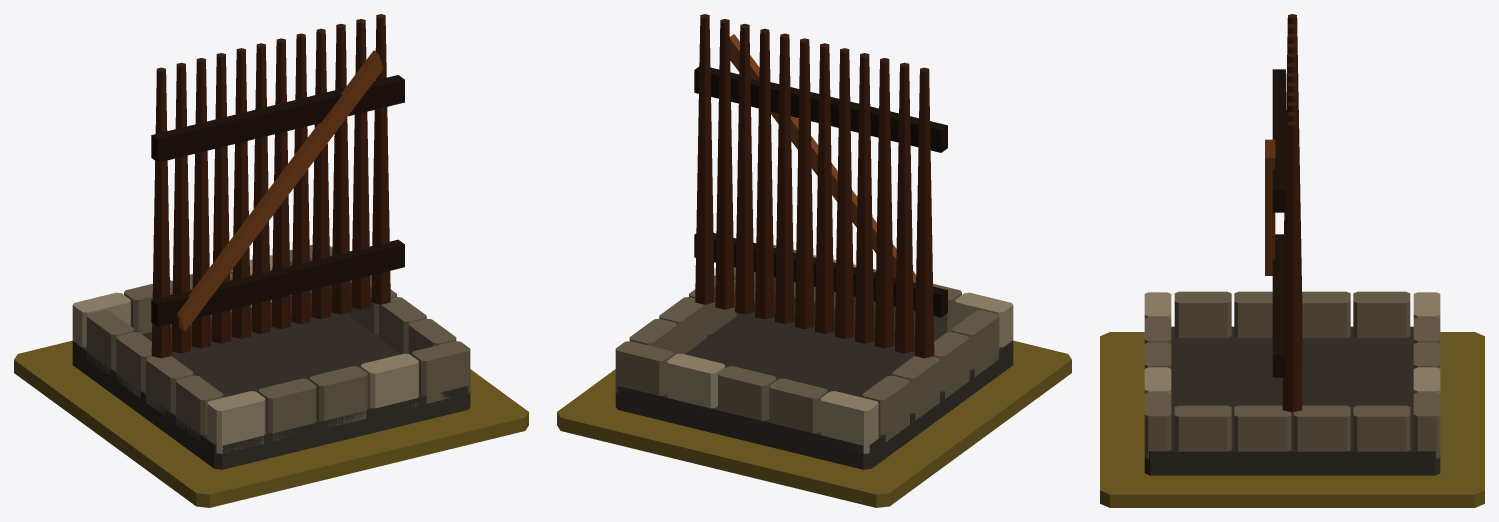
The model's file is wall_t4.glb.
The picture shows the model from 3 angles, left to right: view 1: azimuth 30°, elevation 25°; view 2: azimuth 150°, elevation 25°; view 3: azimuth 270°, elevation 25°; orthographic projection.
Parts seen in each view (by area): view 1: MMR | wall | T04 Architecture.001, MMR | wall | Tier 04 Ground.001; view 2: MMR | wall | T04 Architecture.001, MMR | wall | Tier 04 Ground.001; view 3: MMR | wall | T04 Architecture.001, MMR | wall | Tier 04 Ground.001.
Boxes of the visible parts, x1,y1,x2,y2 form: MMR | wall | T04 Architecture.001: [72, 14, 470, 469]; MMR | wall | Tier 04 Ground.001: [14, 340, 528, 507]; MMR | wall | T04 Architecture.001: [615, 14, 1013, 469]; MMR | wall | Tier 04 Ground.001: [557, 340, 1071, 507]; MMR | wall | T04 Architecture.001: [1144, 14, 1440, 475]; MMR | wall | Tier 04 Ground.001: [1100, 332, 1484, 507].
Bounding box in the file's own units: 1.3 × 1.33 × 1.3.
Materials: 1 (1 with a texture image).
